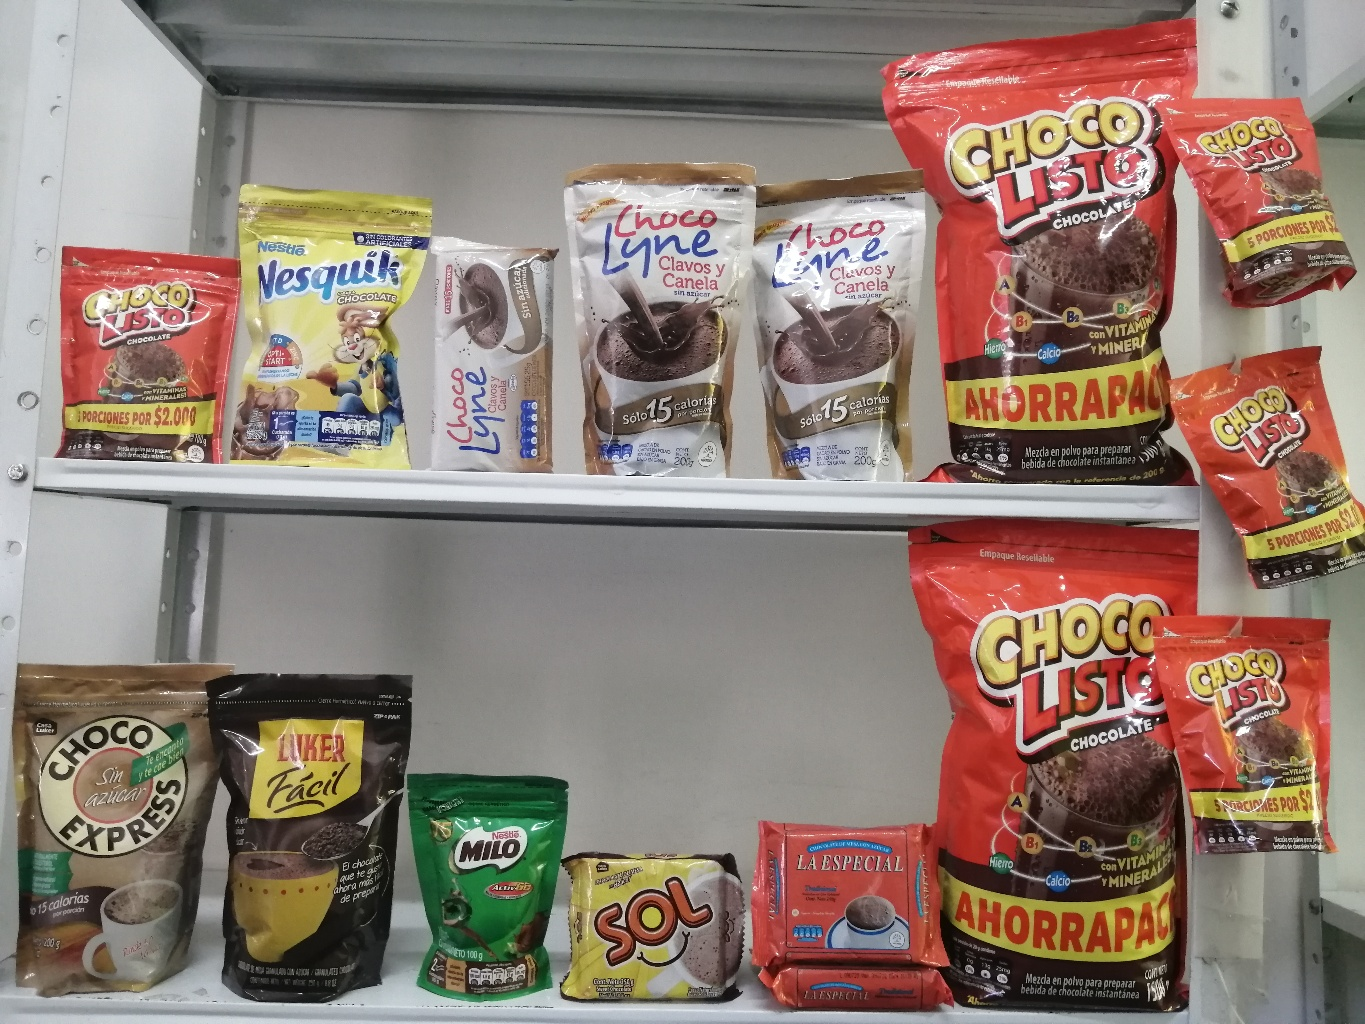COL0170203DYP10000: (393, 758, 571, 1012)
COL0170303DYP20000: (218, 167, 437, 488)
